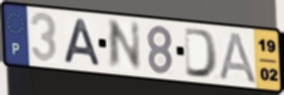3: (29, 11, 61, 65)
8: (145, 24, 175, 76)
A: (218, 31, 259, 86), (61, 17, 103, 68)
D: (183, 26, 221, 80)
N: (107, 19, 143, 72)
